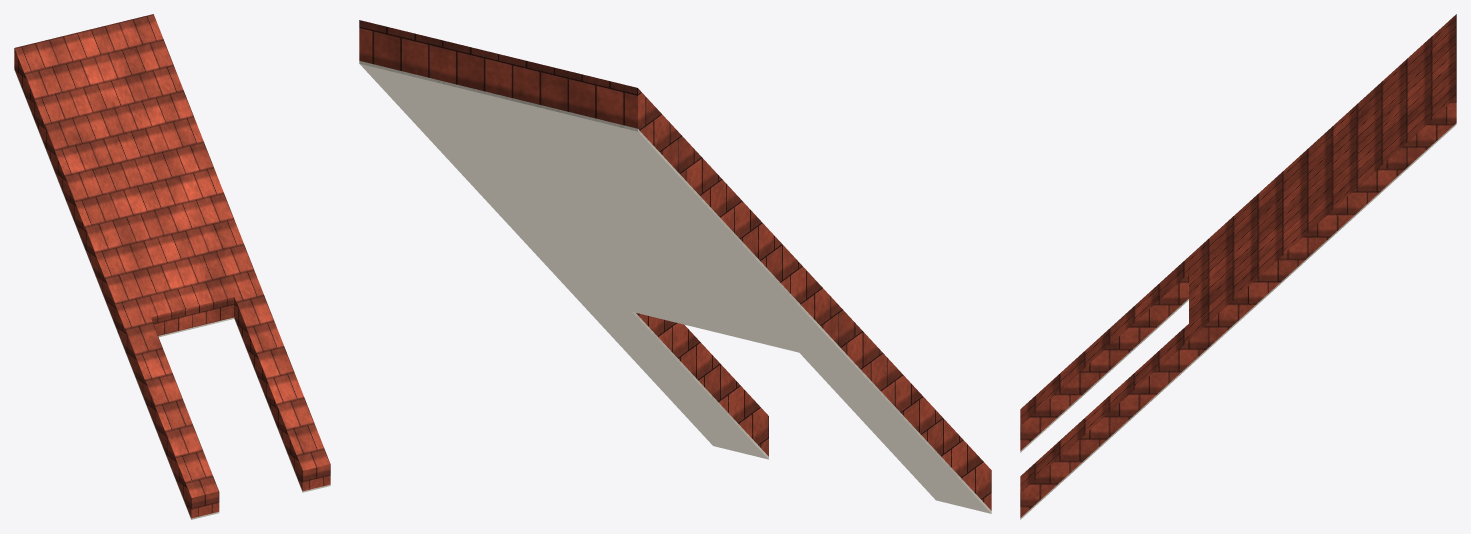
File: roof_slope_dormer.glb
The picture shows the model from 3 angles, left to right: view 1: azimuth 30°, elevation 25°; view 2: azimuth 150°, elevation 25°; view 3: azimuth 270°, elevation 25°; orthographic projection. The views are drawn at different scales.
Visible parts, largest first — view 1: roof_slope_dormer_roof_tiles, roof_slope_dormer_plaster; view 2: roof_slope_dormer_plaster, roof_slope_dormer_roof_tiles; view 3: roof_slope_dormer_roof_tiles, roof_slope_dormer_plaster.
Part boxes in pixels (<box>): roof_slope_dormer_roof_tiles: <box>14,14,330,518</box>; roof_slope_dormer_plaster: <box>14,69,330,519</box>; roof_slope_dormer_plaster: <box>359,61,991,513</box>; roof_slope_dormer_roof_tiles: <box>359,20,991,510</box>; roof_slope_dormer_roof_tiles: <box>1020,14,1456,517</box>; roof_slope_dormer_plaster: <box>1020,123,1456,519</box>.
Bounding box in the file's own units: 2 × 4.7 × 4.4.
2 materials, 2 textured.
